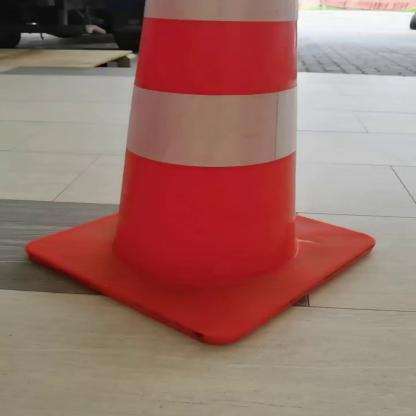cone: (5, 0, 393, 350)
